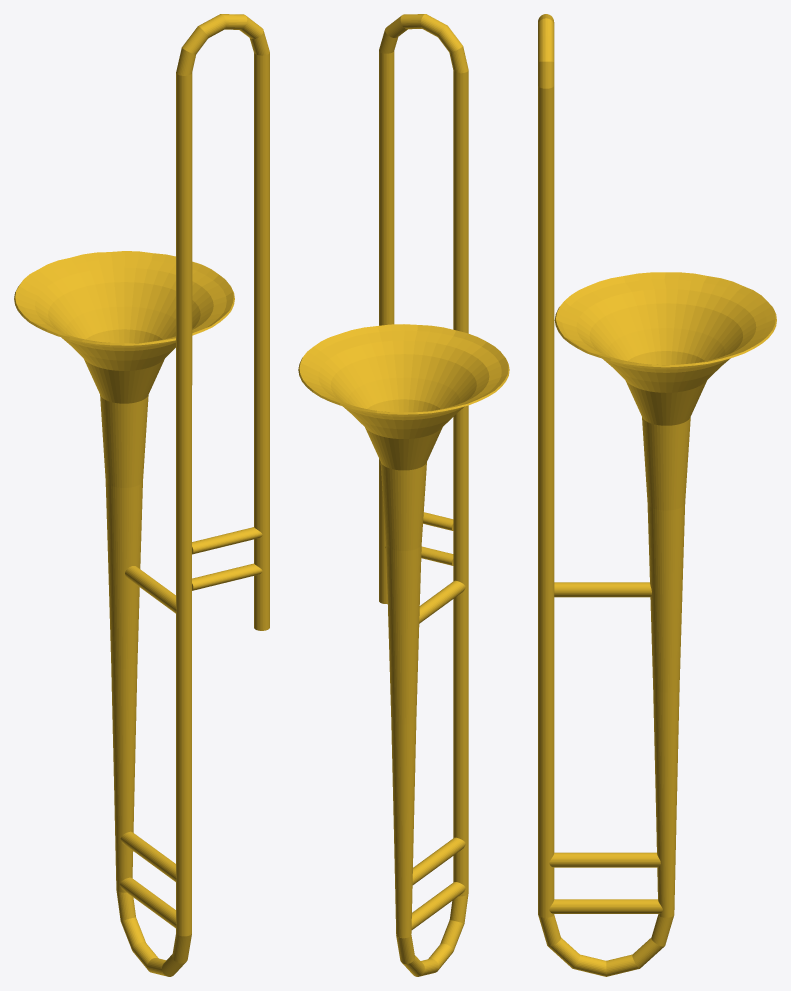
Rendered from trombone.fbx.
3 renders of one model, left to right at view 1: azimuth 30°, elevation 25°; view 2: azimuth 150°, elevation 25°; view 3: azimuth 270°, elevation 25°, orthographic. The views are drawn at different scales.
Visible parts, largest first — view 1: Torus; view 2: Torus; view 3: Torus.
Part boxes in pixels (x1,y1,x2,y2): Torus: (14,14,269,976); Torus: (298,14,509,976); Torus: (538,14,776,976).
Size of the model in its own units: 133 by 644 by 143.
